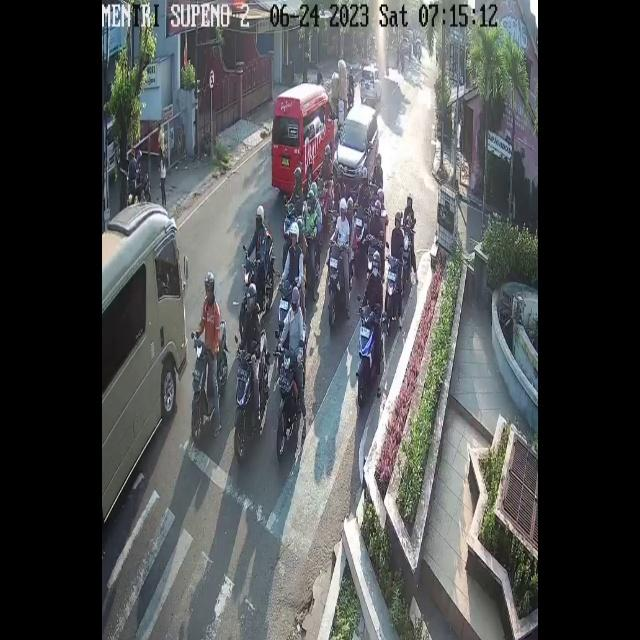bus: (190, 320, 229, 441), (274, 321, 308, 459), (236, 328, 269, 464), (355, 305, 385, 405), (240, 236, 273, 315), (329, 236, 351, 322), (385, 254, 405, 330), (353, 204, 370, 254), (316, 179, 334, 225), (279, 278, 295, 326), (366, 232, 382, 280), (401, 220, 412, 278), (282, 202, 300, 233)
car: (102, 202, 187, 523), (272, 83, 334, 197)
motorcycle: (334, 96, 379, 198), (359, 64, 381, 106)
